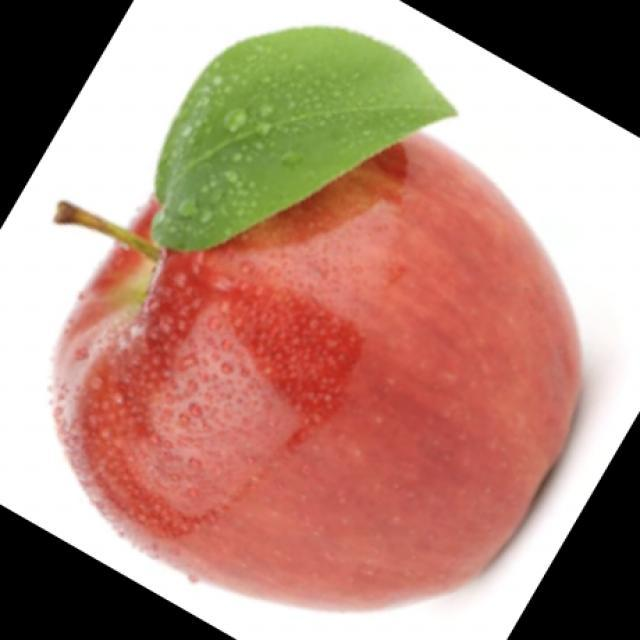Fresh Apple: (51, 105, 586, 615)
